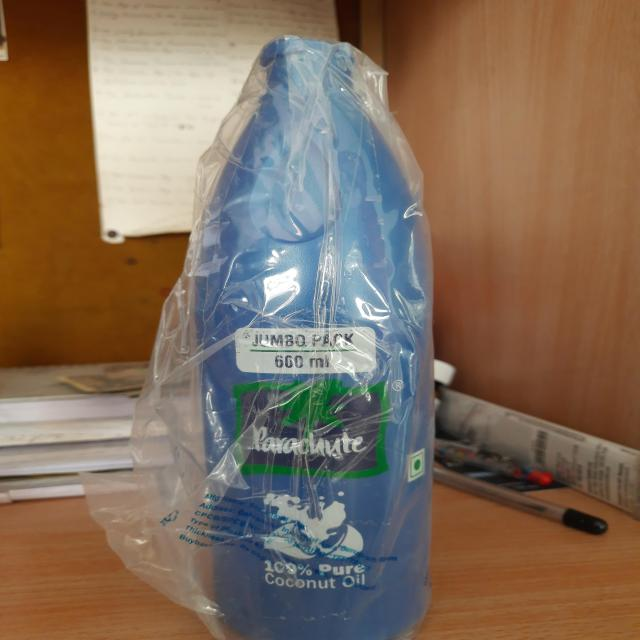parachute_oil: (179, 65, 428, 637)
